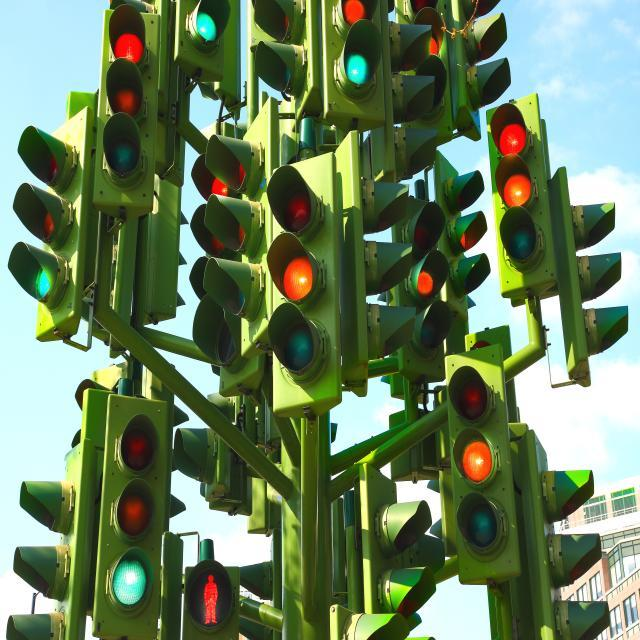suv: (189, 95, 281, 397), (8, 97, 98, 342), (507, 427, 610, 639), (265, 150, 342, 418), (92, 392, 170, 639), (444, 343, 522, 585), (6, 440, 97, 640), (548, 166, 628, 387), (344, 462, 440, 635), (92, 1, 161, 220), (487, 92, 558, 304), (172, 392, 253, 516), (320, 0, 386, 132), (173, 0, 240, 108)
